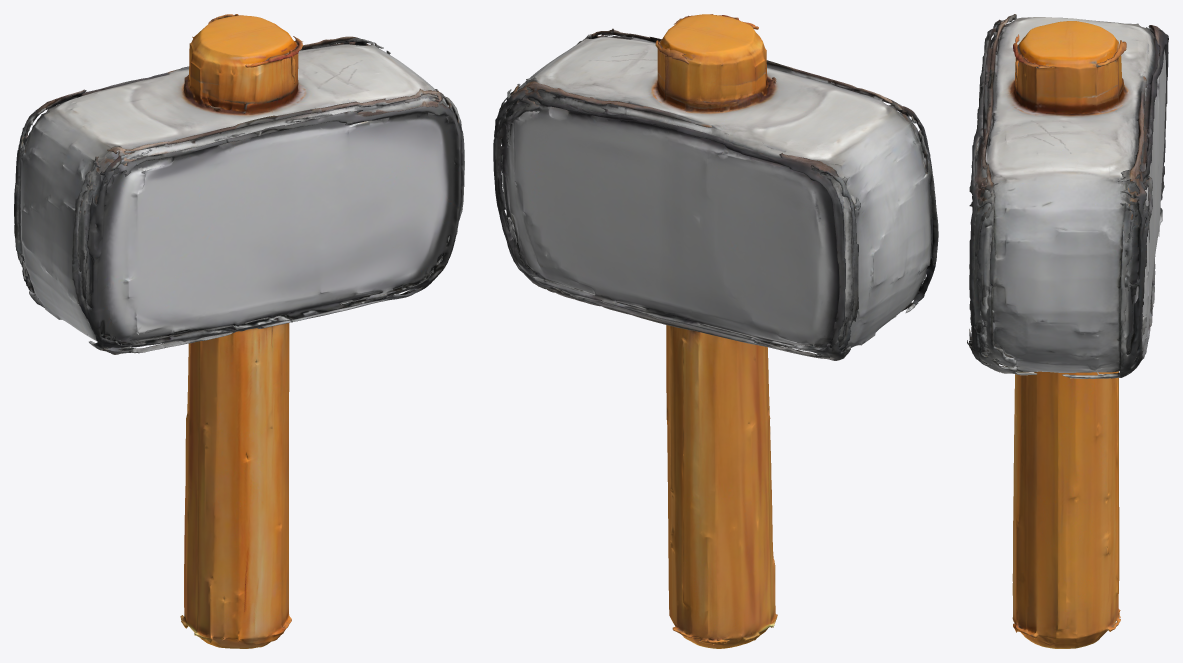
Rendered from hammer.glb.
The picture shows the model from 3 angles, left to right: view 1: azimuth 30°, elevation 25°; view 2: azimuth 150°, elevation 25°; view 3: azimuth 270°, elevation 25°; orthographic projection.
Bounding box in the file's own units: 1.35 × 1.99 × 0.6082.
Materials: 1 (1 with a texture image).
